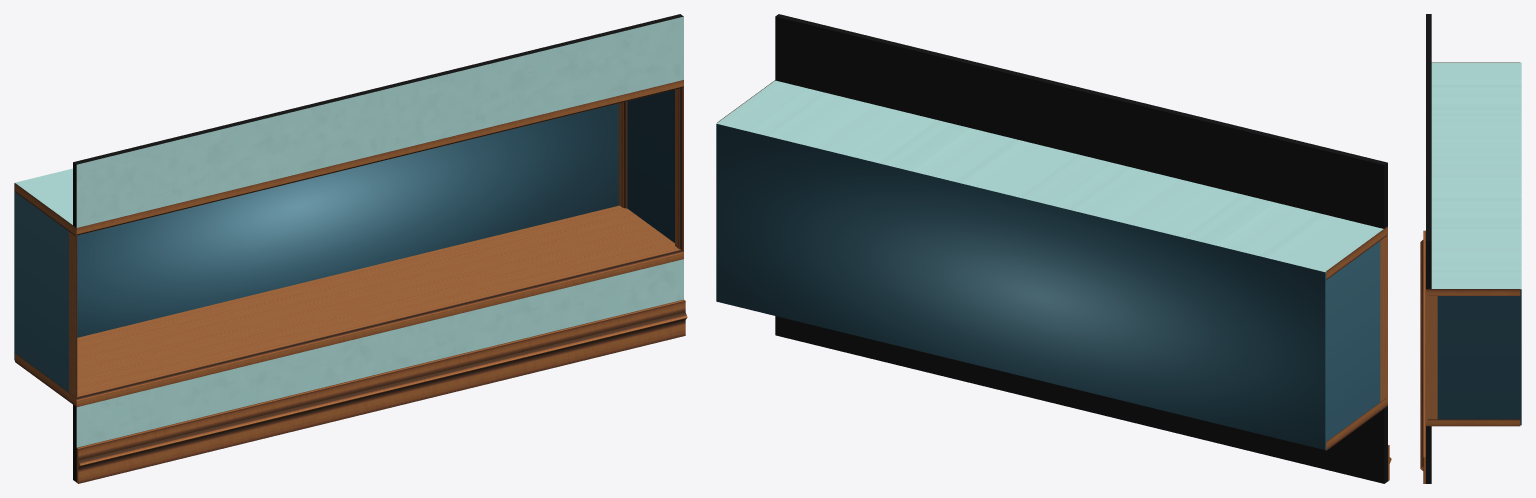
The model's file is Wall_Window_DoubleDisplay_A_08.FBX.
The picture shows the model from 3 angles, left to right: view 1: azimuth 30°, elevation 25°; view 2: azimuth 150°, elevation 25°; view 3: azimuth 270°, elevation 25°; orthographic projection. The views are drawn at different scales.
Visible parts, largest first — view 1: Wall_Window Display; view 2: Wall_Window Display; view 3: Wall_Window Display.
Boxes of the visible parts, <box> form: Wall_Window Display: <box>14,14,687,483</box>; Wall_Window Display: <box>716,14,1391,483</box>; Wall_Window Display: <box>1420,14,1521,483</box>.
Bounding box in the file's own units: 1000 × 500 × 189.
